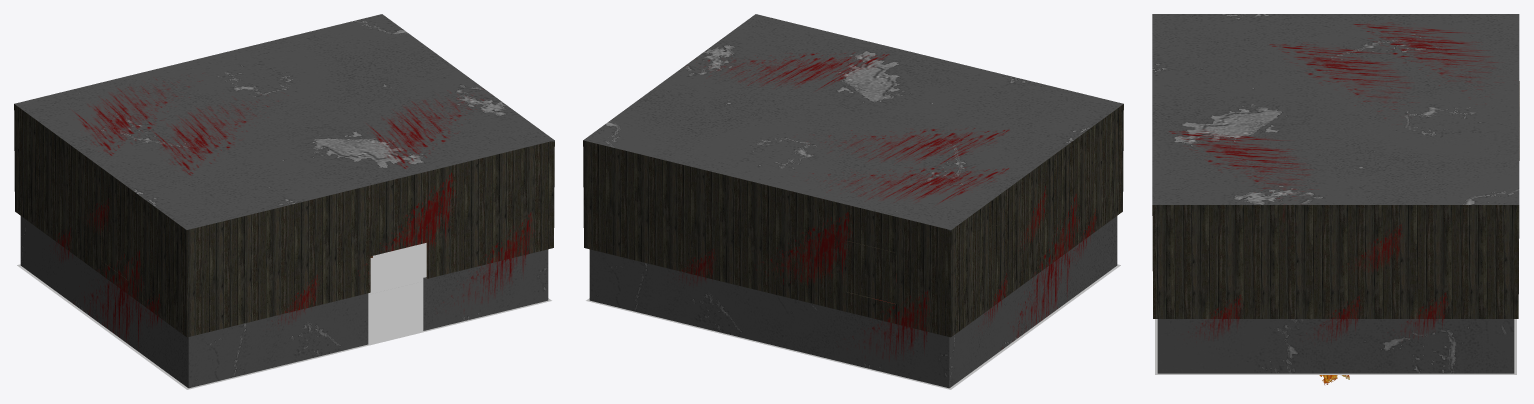
The picture shows the model from 3 angles, left to right: view 1: azimuth 30°, elevation 25°; view 2: azimuth 150°, elevation 25°; view 3: azimuth 270°, elevation 25°; orthographic projection. The views are drawn at different scales.
Visible parts, largest first — view 1: pCube68, pCube25, pCube49, ditan; view 2: pCube68, pCube49; view 3: pCube68, pCube49.
Part boxes in pixels (<box>): pCube68: <box>14,14,554,387</box>; pCube25: <box>186,140,554,388</box>; pCube49: <box>17,243,551,389</box>; ditan: <box>368,253,421,294</box>; pCube68: <box>583,14,1123,388</box>; pCube49: <box>586,264,1120,389</box>; pCube68: <box>1152,14,1519,373</box>; pCube49: <box>1155,319,1516,374</box>.
Bounding box in the file's own units: 30.87 × 14.42 × 25.1.
